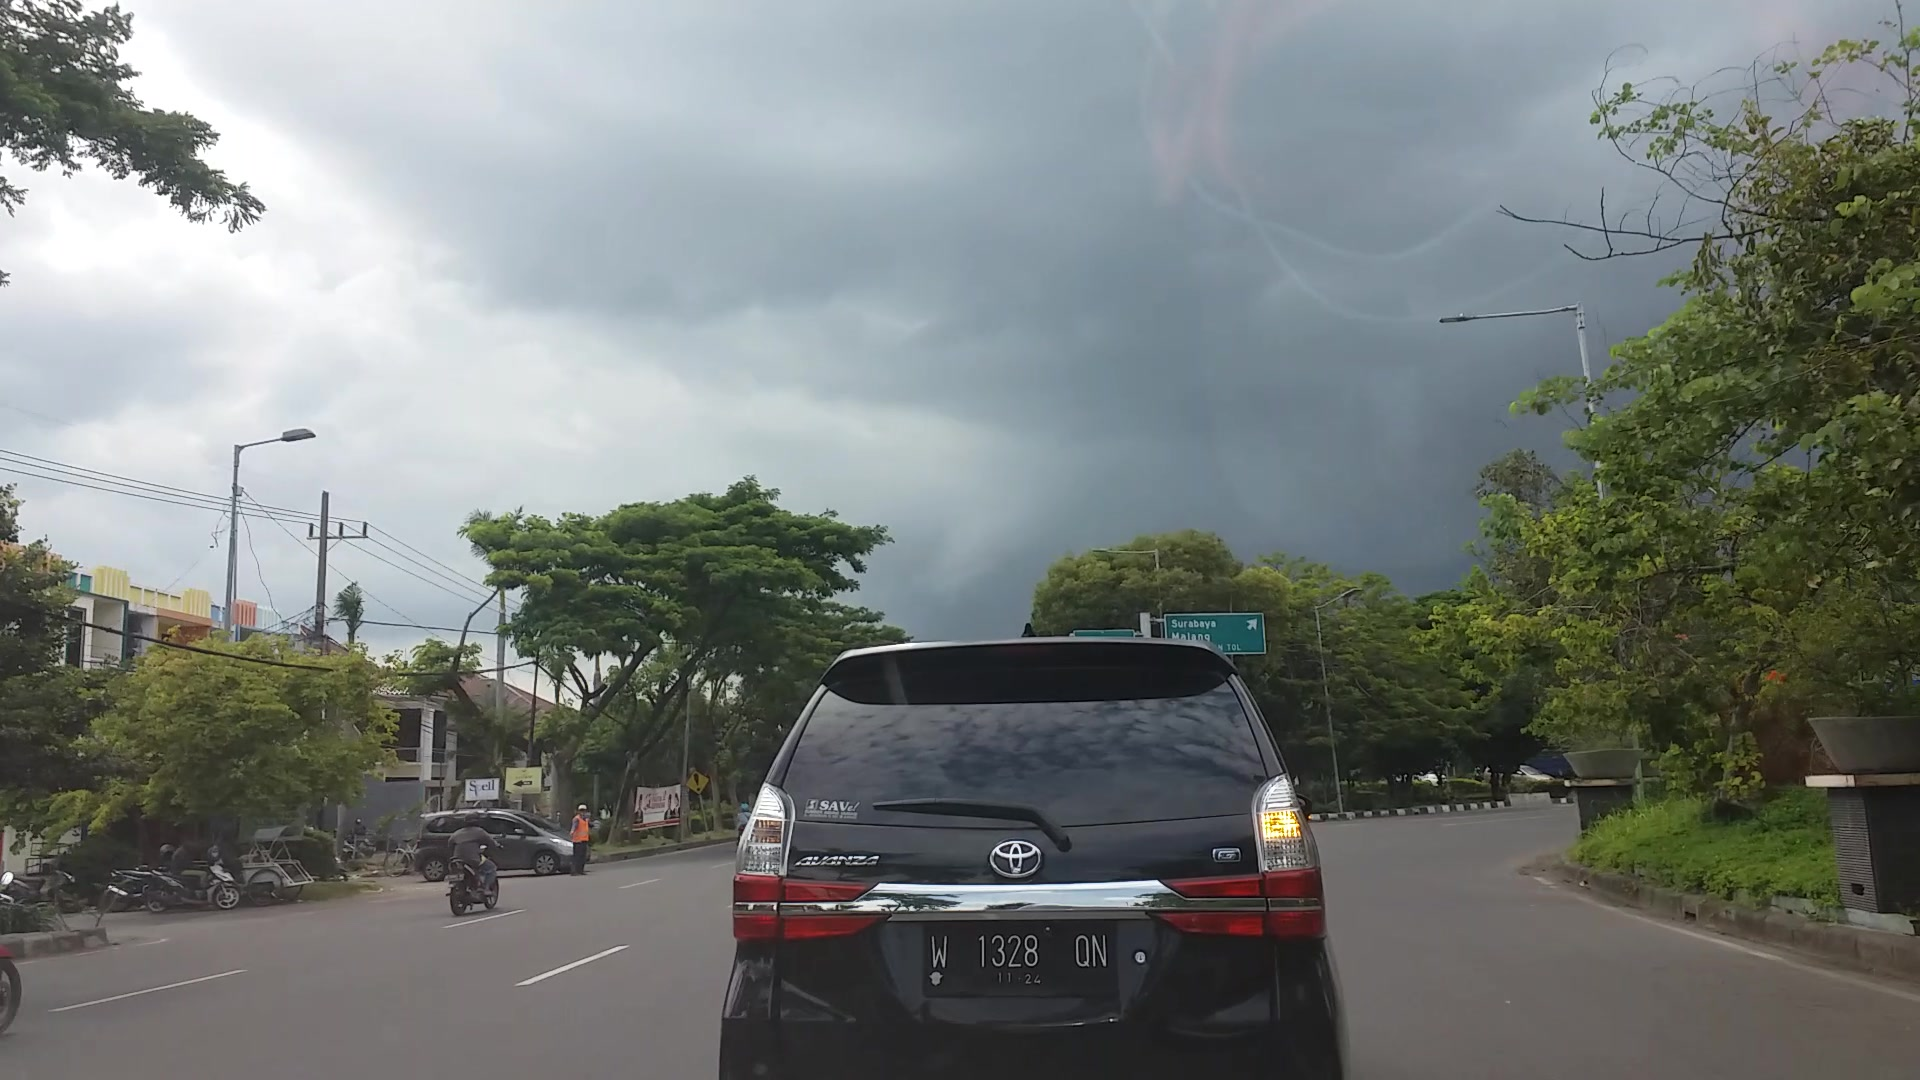plate_positive: (924, 920, 1120, 1000)
